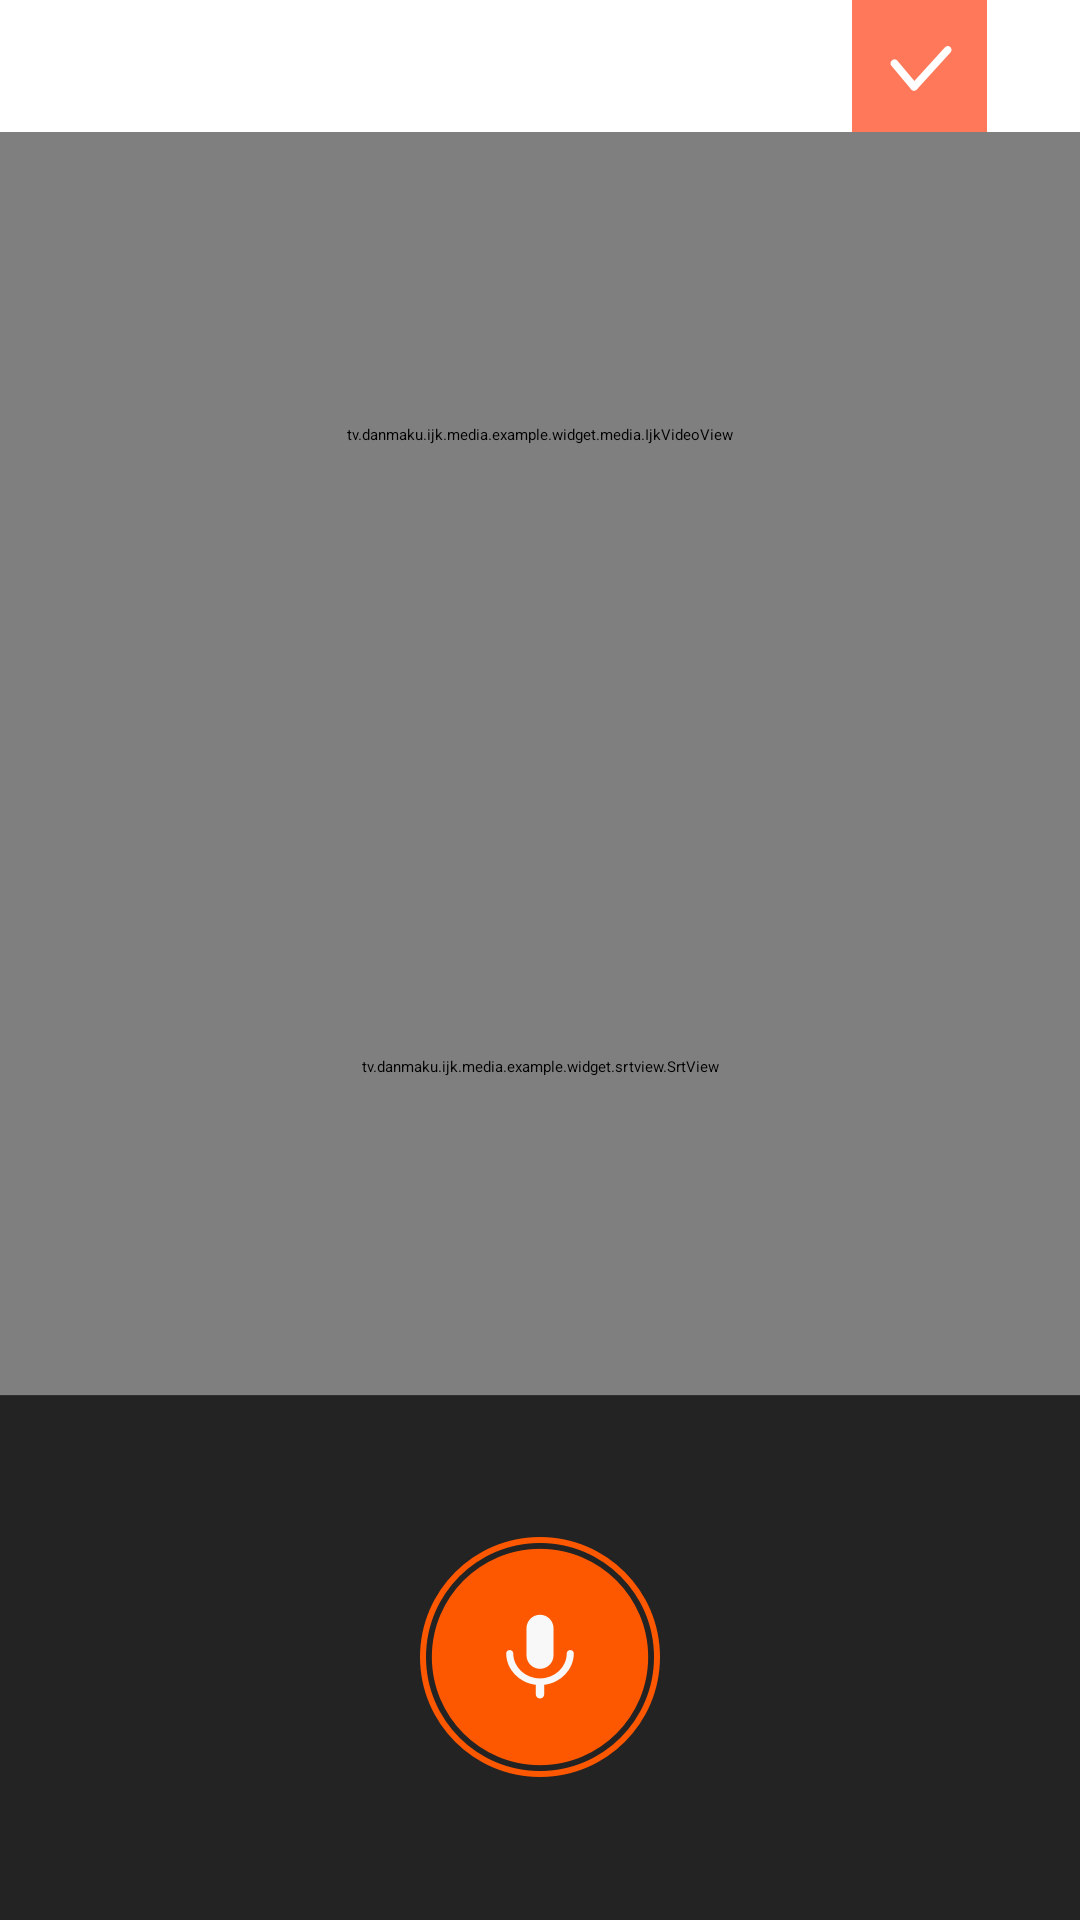

Named icons in this screenshot (1080 x 1920) and their bounding boxes, (x1, y1, x2, y2):
dubbing complete dui: (852, 0, 987, 132)
